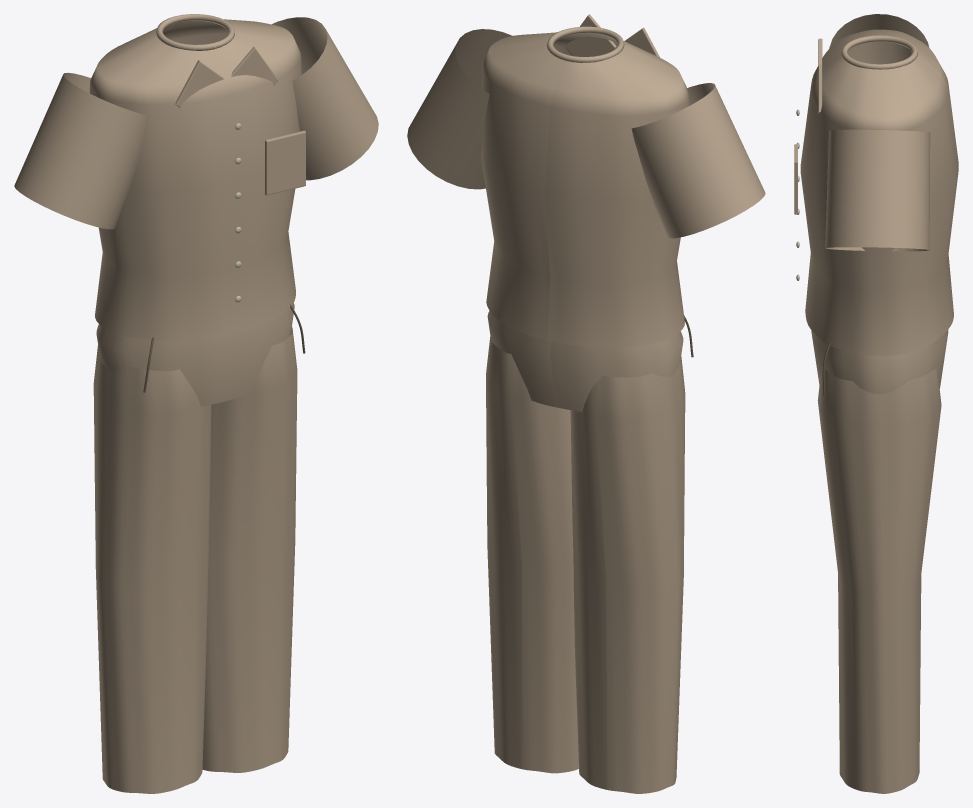
The model's file is ensemble-meridien-femme.glb.
3 views of the same model, side by side, from view 1: azimuth 30°, elevation 25°; view 2: azimuth 150°, elevation 25°; view 3: azimuth 270°, elevation 25° (orthographic). The views are drawn at different scales.
Visible parts, largest first — view 1: edit-19, short-sleeve (×2); view 2: edit-19, short-sleeve (×2); view 3: edit-19, short-sleeve (×2).
Boxes of the visible parts, box(x1,y1,x2,y2) form: edit-19: box(89, 14, 305, 793); short-sleeve (×2): box(14, 17, 378, 229); edit-19: box(481, 14, 693, 793); short-sleeve (×2): box(407, 29, 765, 238); edit-19: box(794, 29, 958, 793); short-sleeve (×2): box(825, 14, 930, 251).
Bounding box in the file's own units: 0.6966 × 1.41 × 0.2985.
